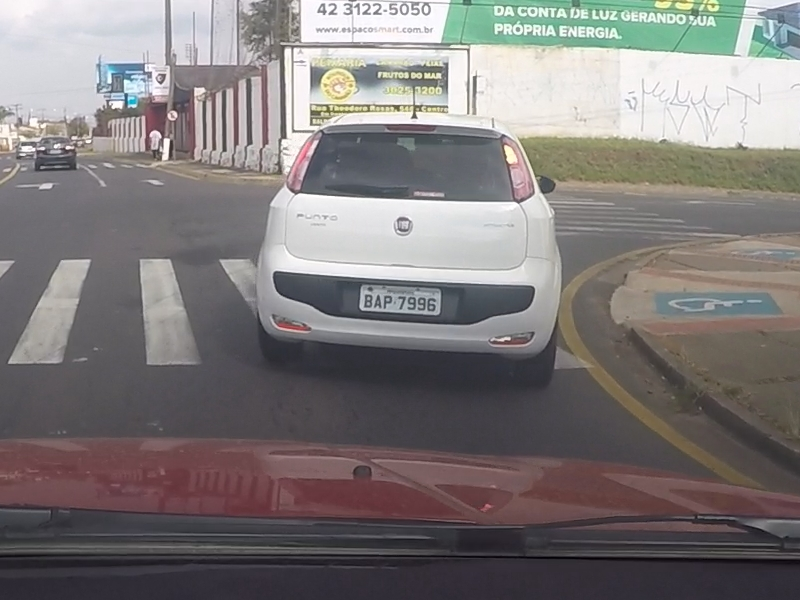placa: (359, 284, 441, 316)
